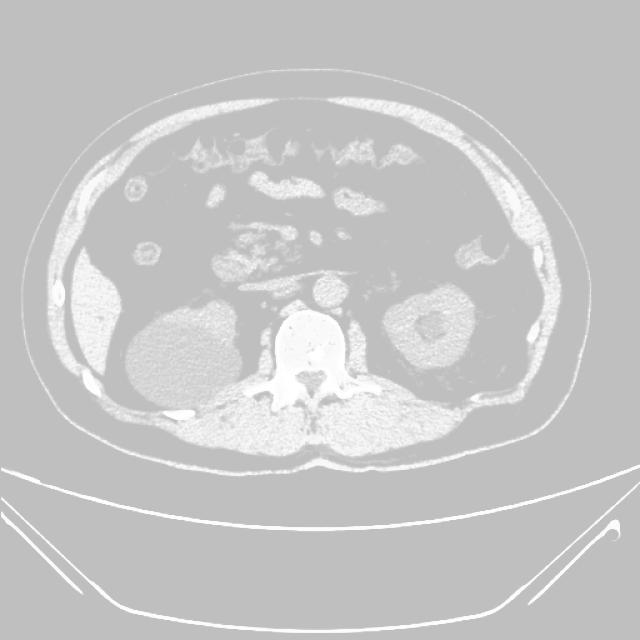cysts: (37, 80, 575, 472)
